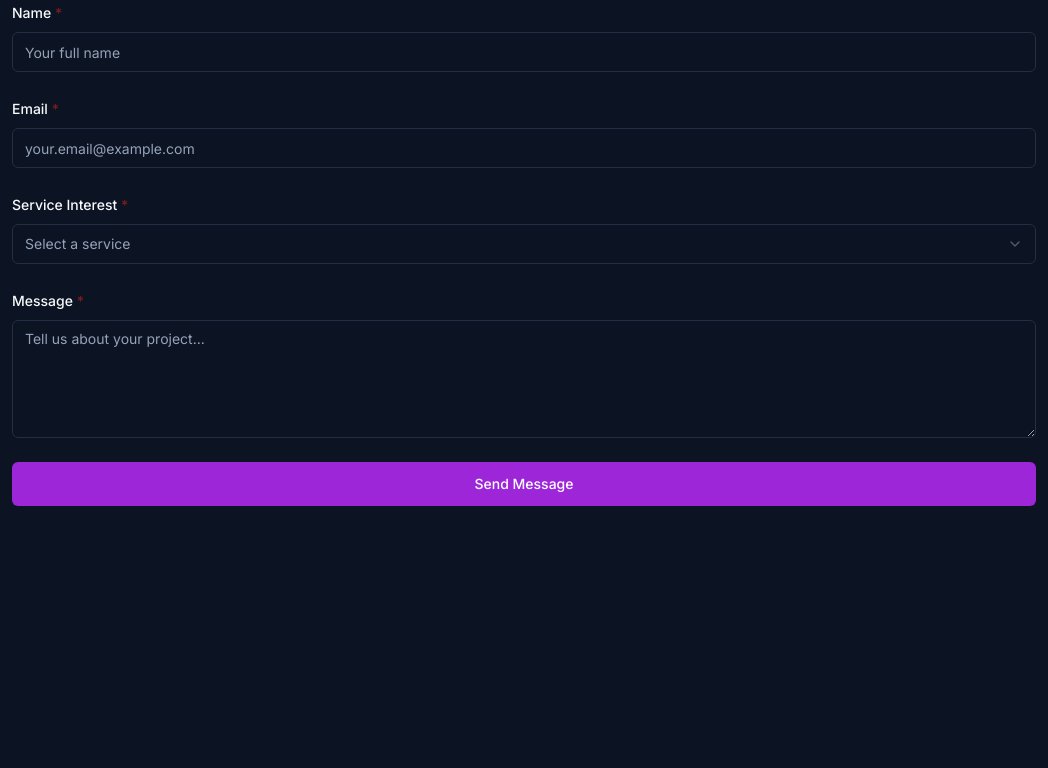
Keyboard Navigation Tests › Submit button should be activatable with Enter key
The image size is (1048, 768).
Fill form
Type "John Doe" into the field labelled "Name *". click: [524, 52]
box: 12,32 -> 1036,72
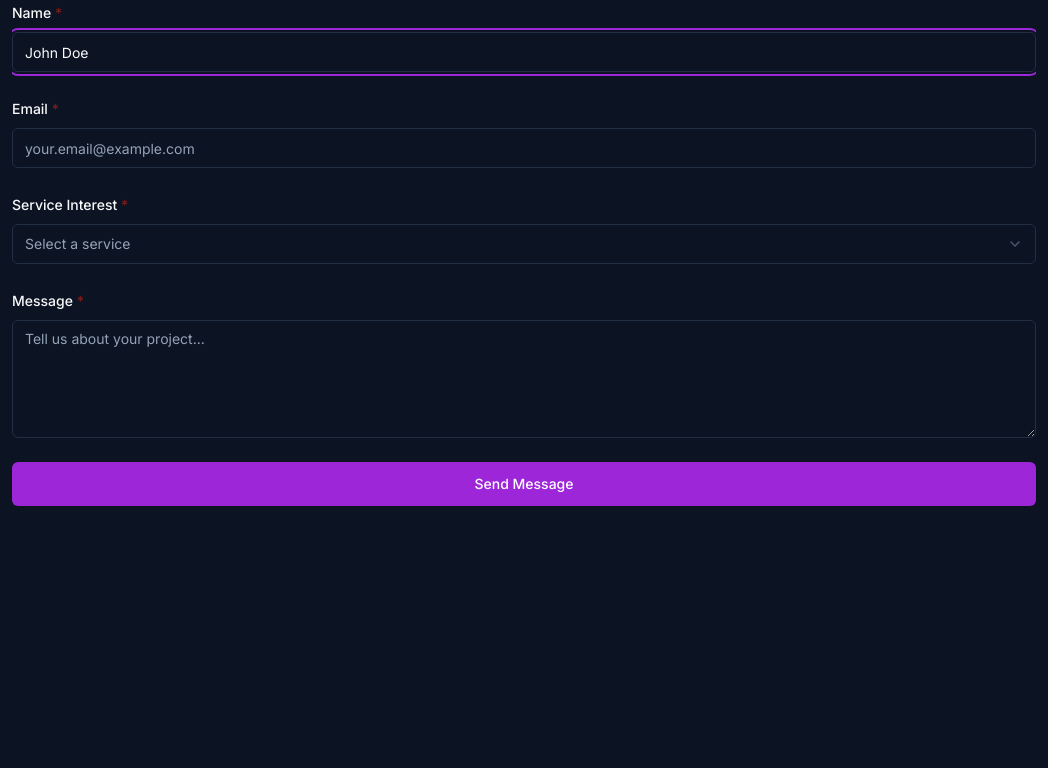
Type "john@example.com" into the field labelled "Email *". click: [524, 148]
box: 12,128 -> 1036,168
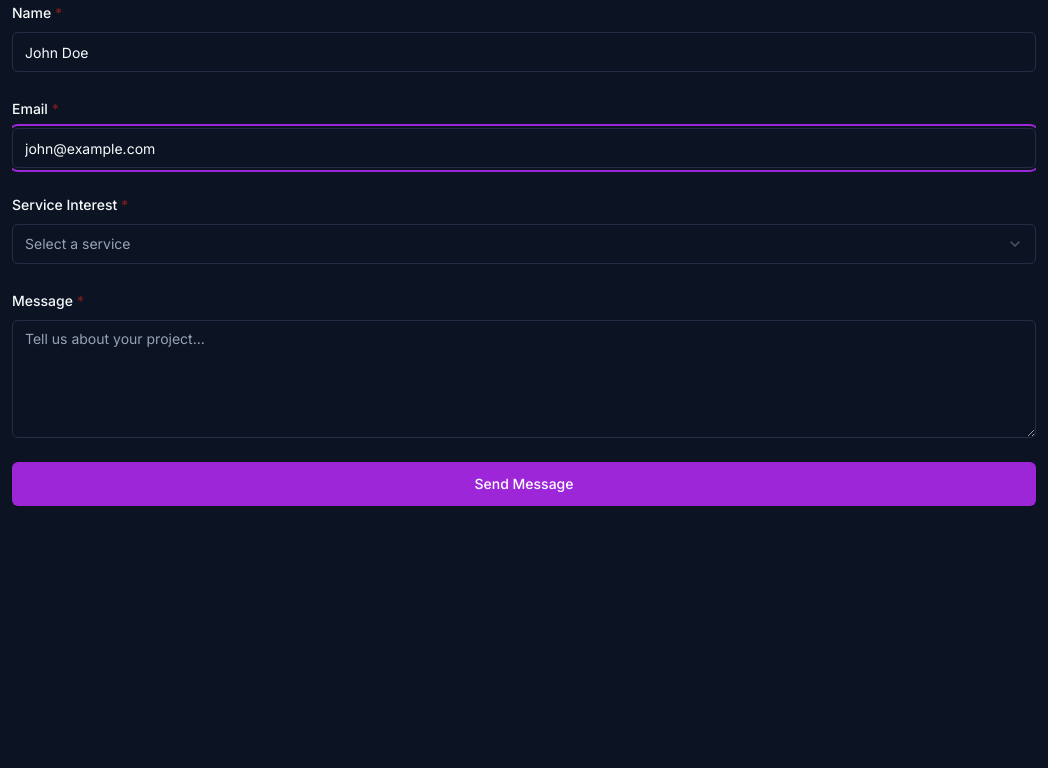
Type "Test message here" into the text box labelled "Message *". click: [524, 379]
box: 12,320 -> 1036,438
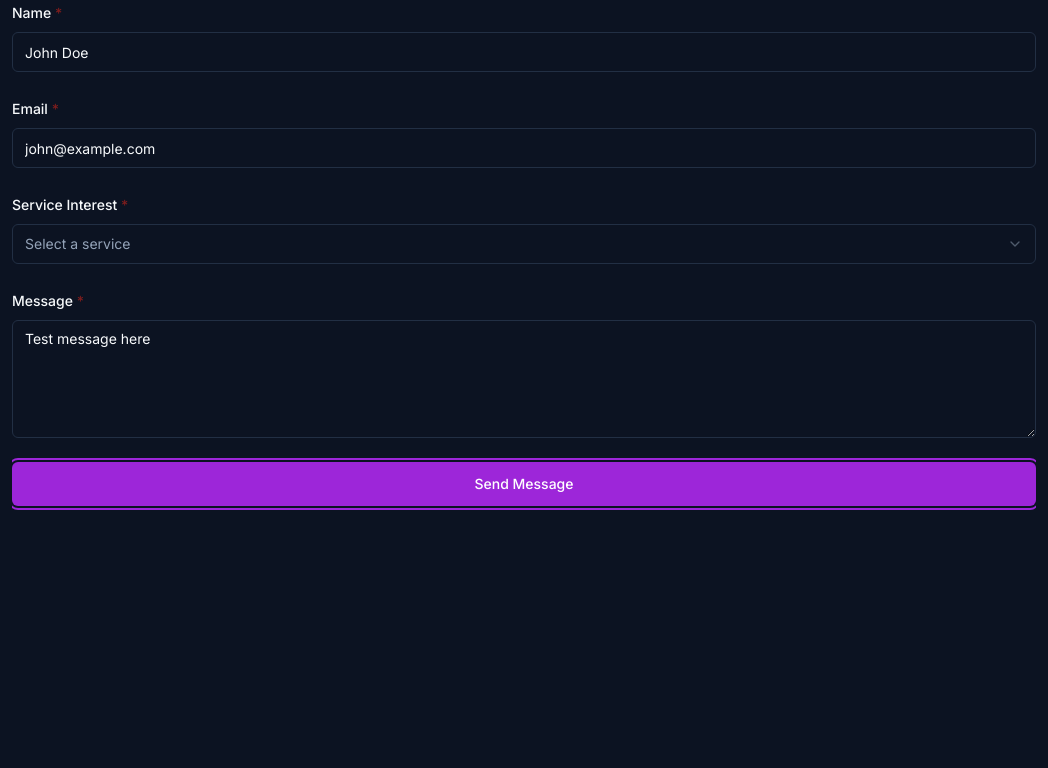
Press Enter
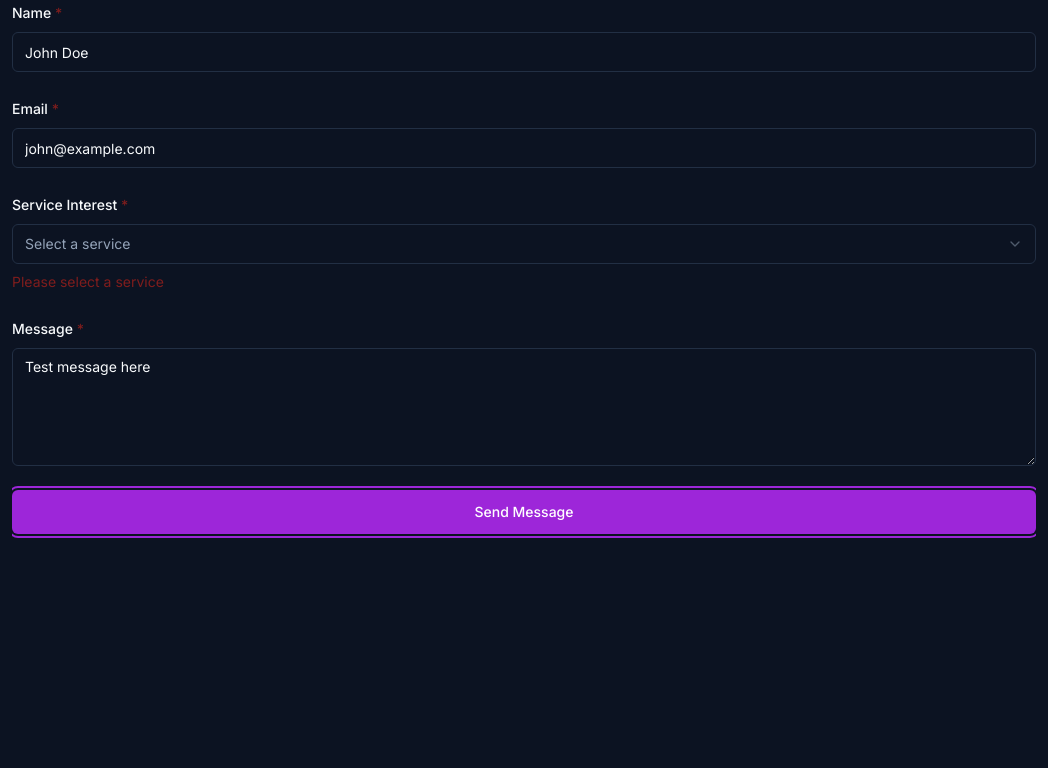
expect the message "Please select a service" is shown: met, box 12,273 -> 164,290
